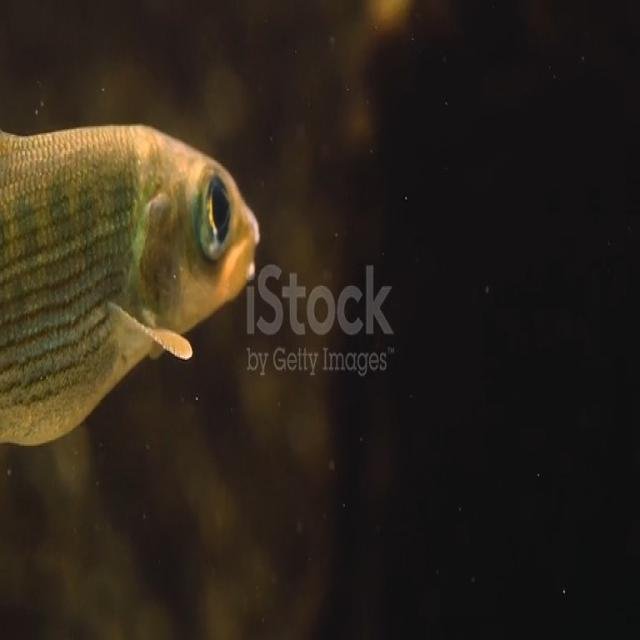fish: (0, 124, 260, 457)
